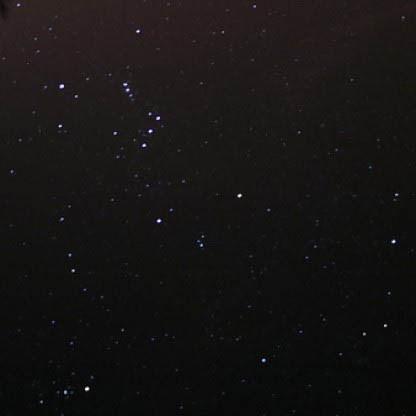Orion: (130, 21, 152, 38), (151, 212, 169, 232), (152, 107, 170, 127), (231, 186, 246, 206), (139, 123, 155, 141), (134, 138, 149, 153), (57, 73, 65, 90)
